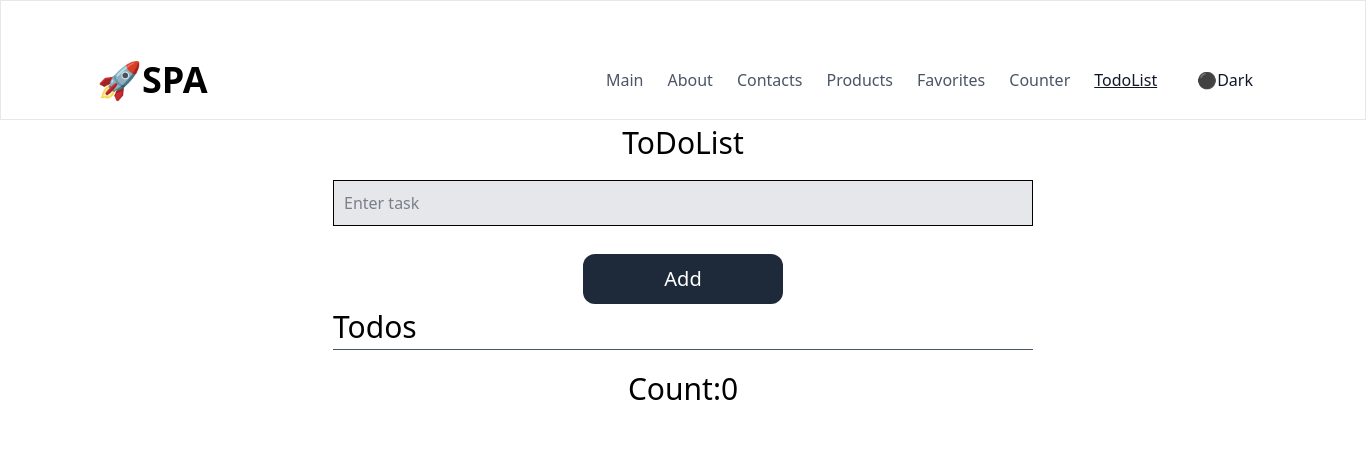
Scenario: template spec › submitting text creates new element with entered text
Type "Some to do" into the field with placeholder "Enter task" at (683,203), box [333,180,1033,226]
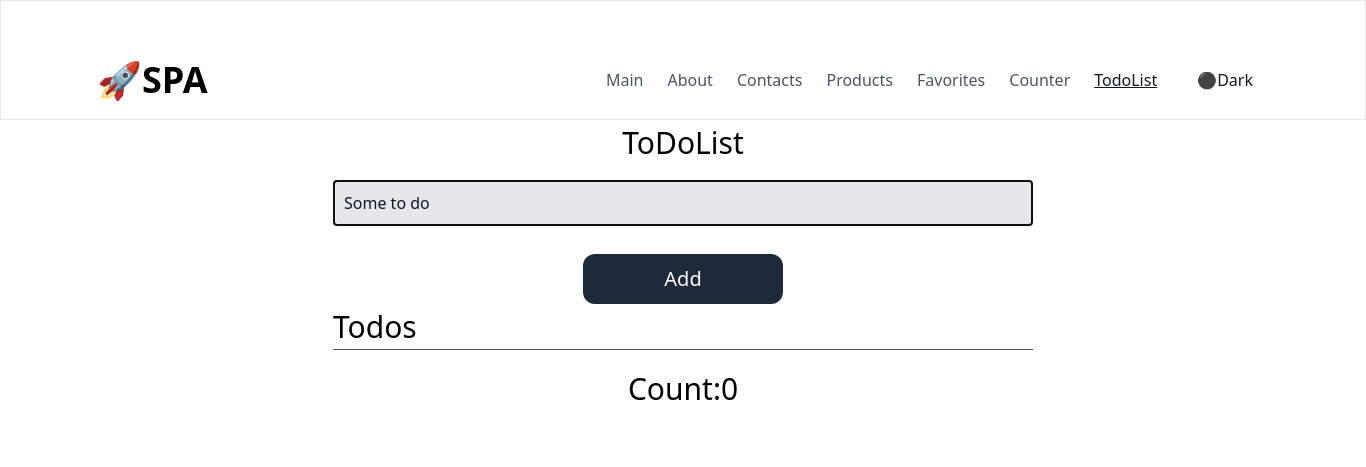
Click the button "Add" at (683,279), box [583,254,783,304]
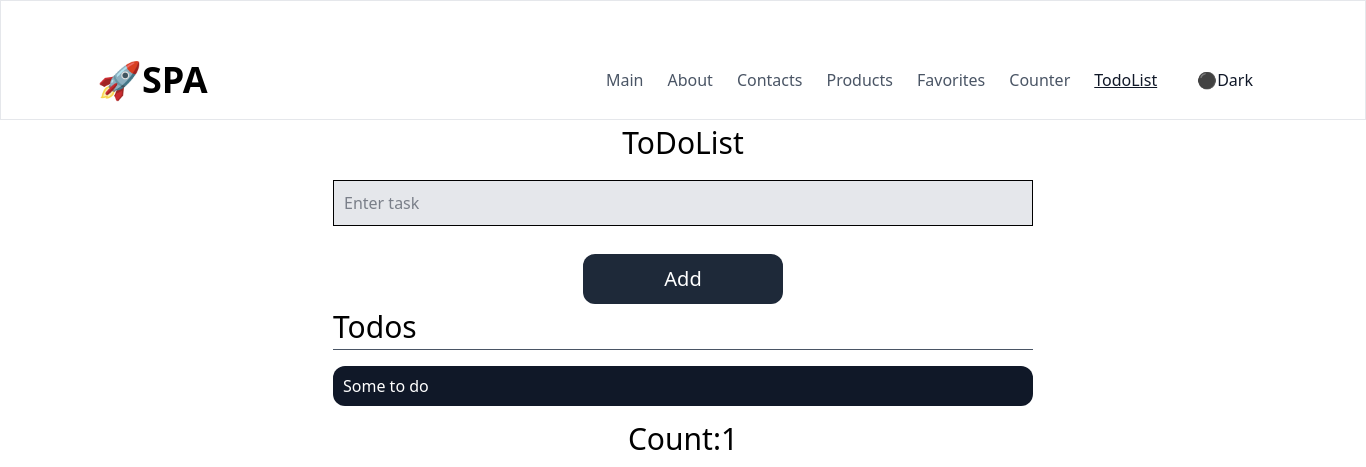
Expected: the list item "Some to do" is shown, [333,366,1033,406]
